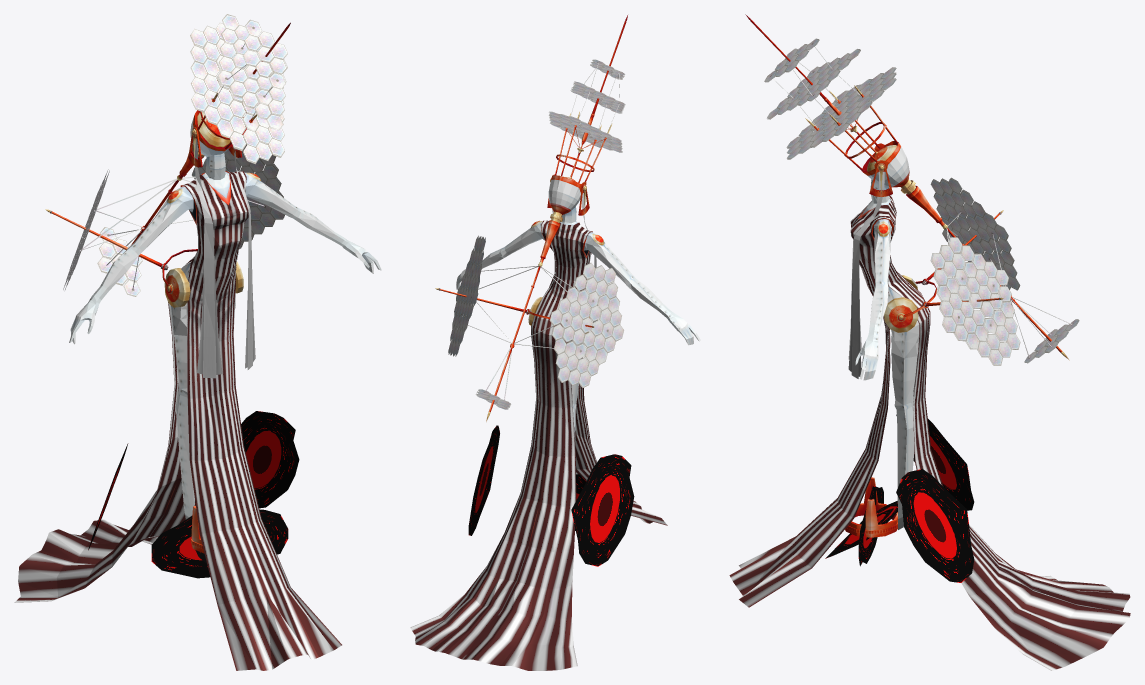
The model's file is model_kanzeon.obj.
3 renders of one model, left to right at view 1: azimuth 30°, elevation 25°; view 2: azimuth 150°, elevation 25°; view 3: azimuth 270°, elevation 25°, orthographic. The views are drawn at different scales.
Visible parts, largest first — view 1: model, model.006, model.003; view 2: model, model.007, model.006; view 3: model, model.006, model.007, model.001, model.003.
Part boxes in pixels (<box>): model: <box>14,14,381,670</box>; model.006: <box>241,411,299,508</box>; model.003: <box>151,509,288,578</box>; model: <box>410,15,700,670</box>; model.007: <box>571,454,634,566</box>; model.006: <box>468,425,499,535</box>; model: <box>729,14,1130,670</box>; model.006: <box>896,469,974,582</box>; model.007: <box>896,414,974,510</box>; model.001: <box>845,477,897,537</box>; model.003: <box>858,486,883,566</box>.
Size of the model in its own units: 235 by 493 by 293.
Materials: 11 (11 with a texture image).
